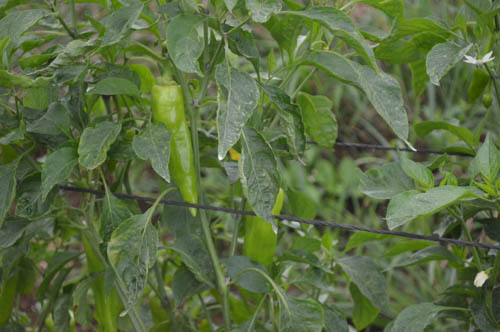ChiliPepper: (147, 84, 203, 208), (245, 201, 274, 269)
